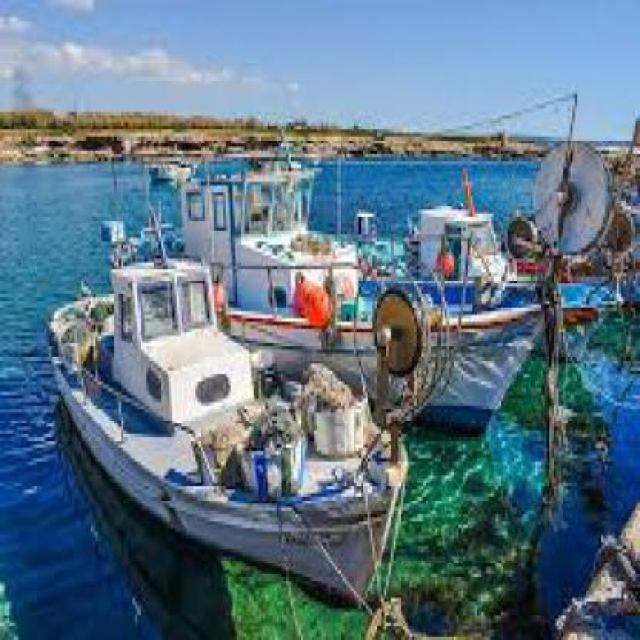fish-b: (43, 236, 425, 607), (138, 130, 569, 438)
